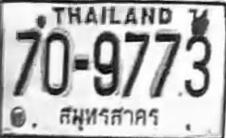0: (43, 30, 70, 94)
3: (183, 36, 211, 98)
7: (12, 30, 40, 96), (152, 33, 180, 97), (123, 31, 150, 97)
9: (93, 31, 119, 96)
SKN: (55, 104, 162, 132)
